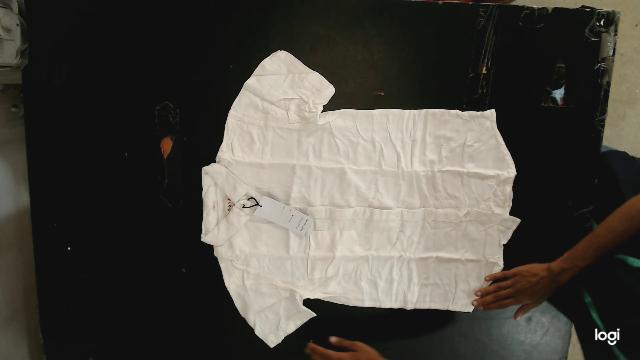new-garment: (201, 50, 519, 346)
